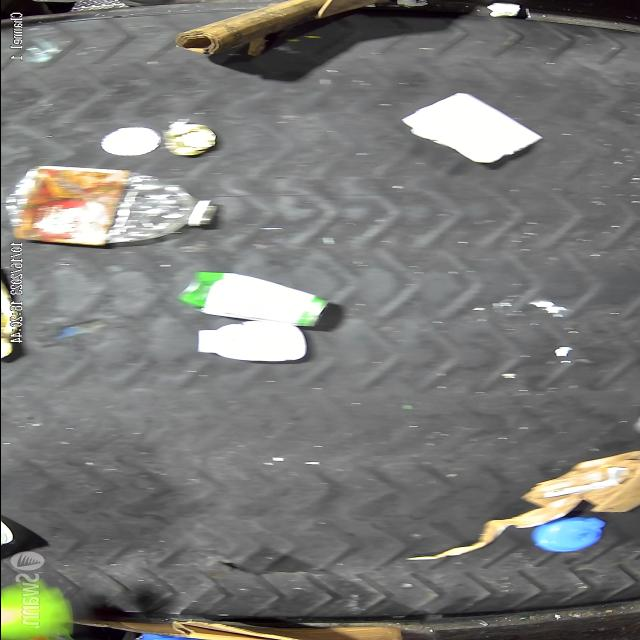can: (163, 124, 216, 156)
plastic_bottle: (6, 166, 220, 246)
